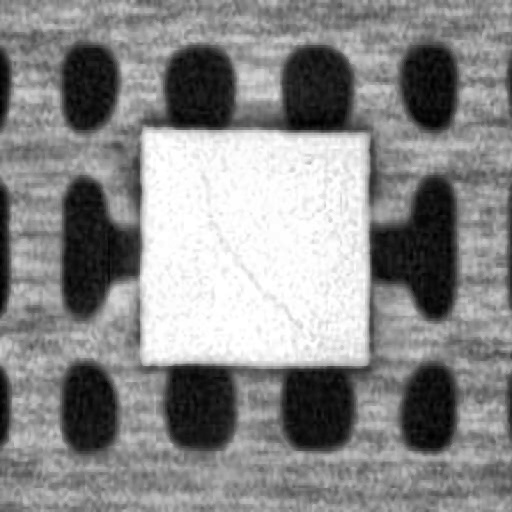DIE_CRACK: (195, 164, 306, 332)
